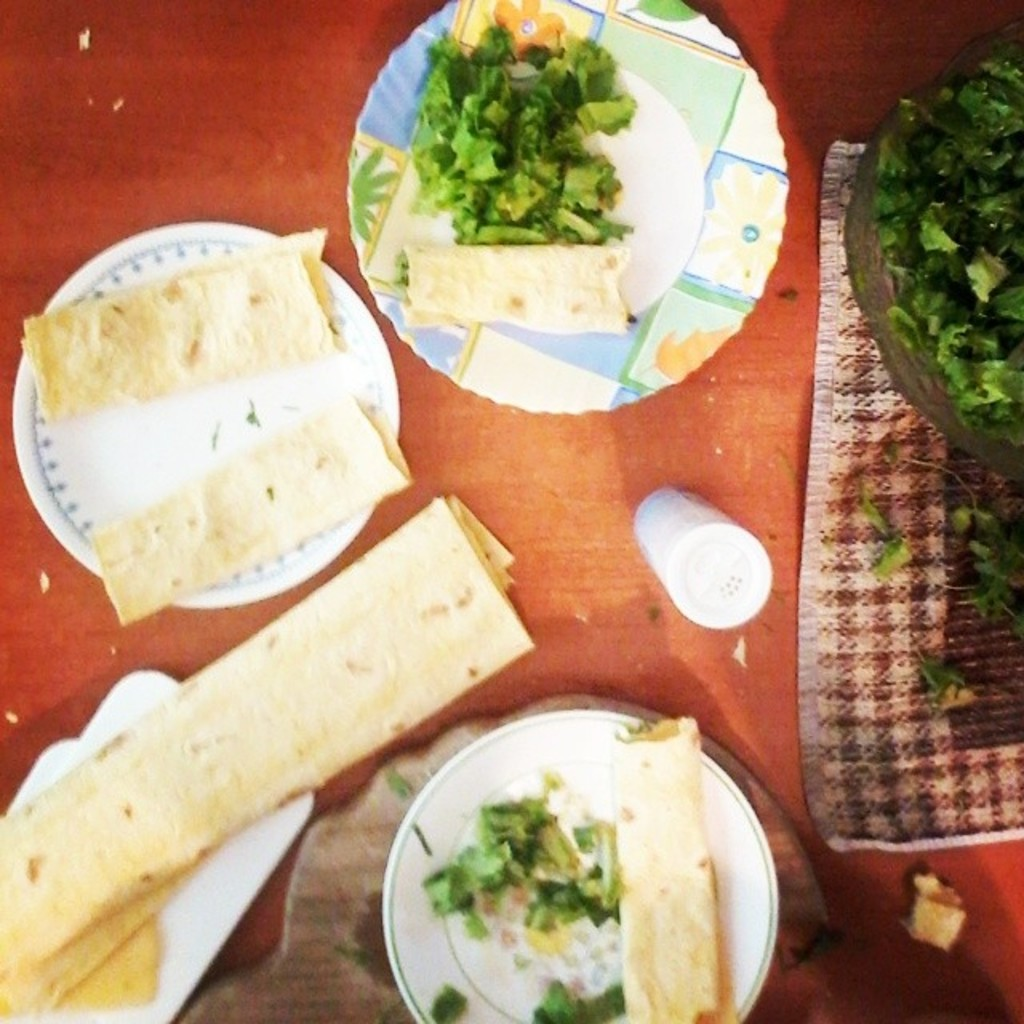taco: (619, 715, 739, 1022)
